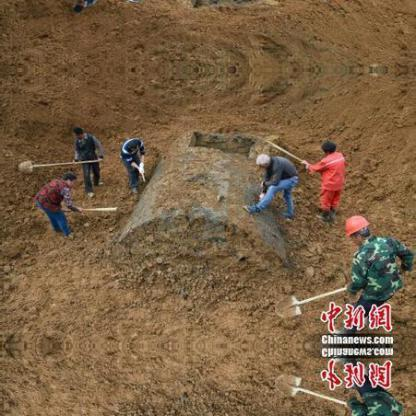helmet: (338, 213, 372, 242)
